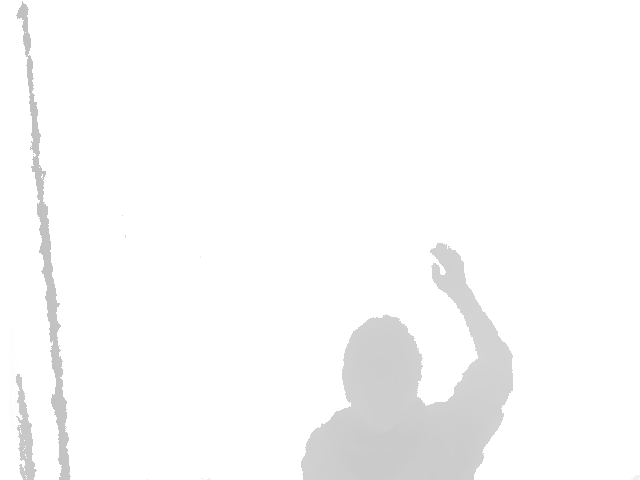hand: (430, 243, 466, 299)
head: (341, 314, 423, 406)
person: (300, 243, 516, 480)
